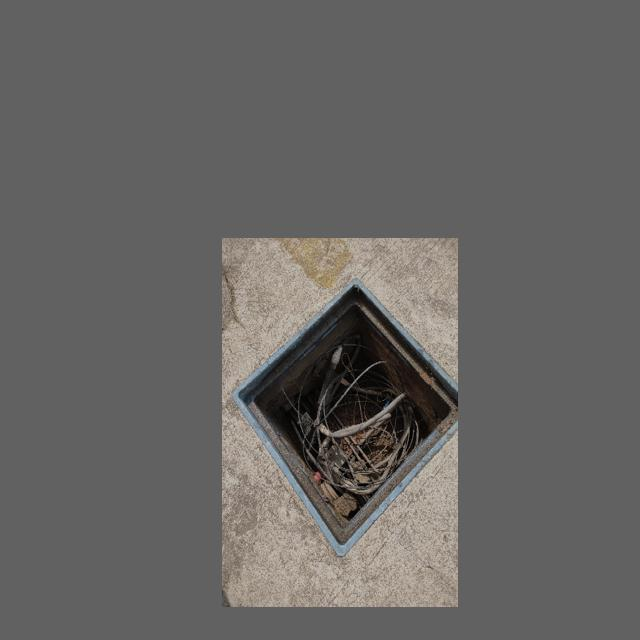lose: (231, 278, 458, 557)
